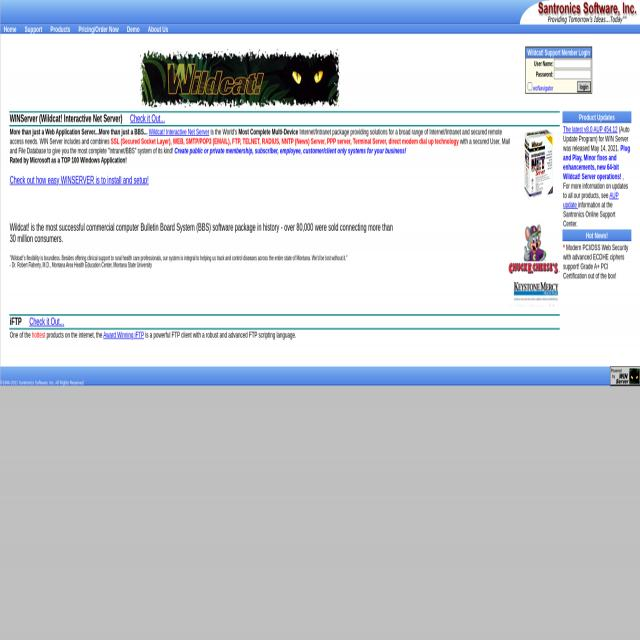button: (140, 49, 340, 109), (518, 127, 559, 203), (609, 365, 640, 386), (577, 81, 591, 92)
field: (554, 59, 590, 68), (554, 70, 590, 79), (527, 82, 532, 90)
